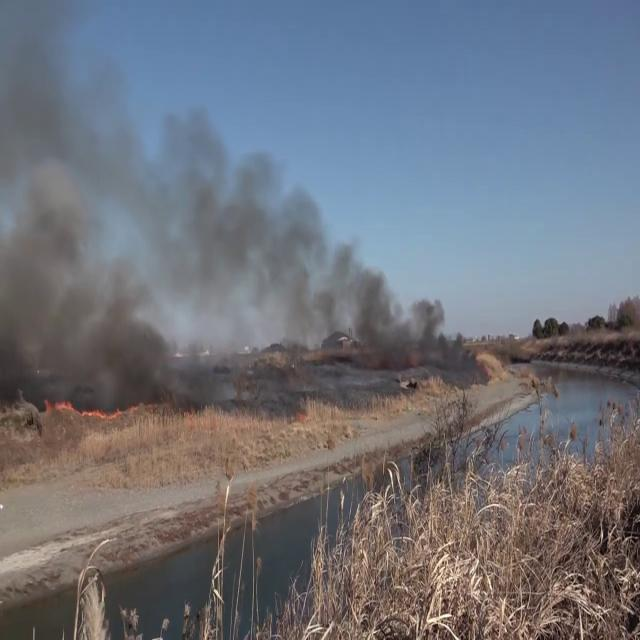Smoke: (1, 77, 468, 395)
